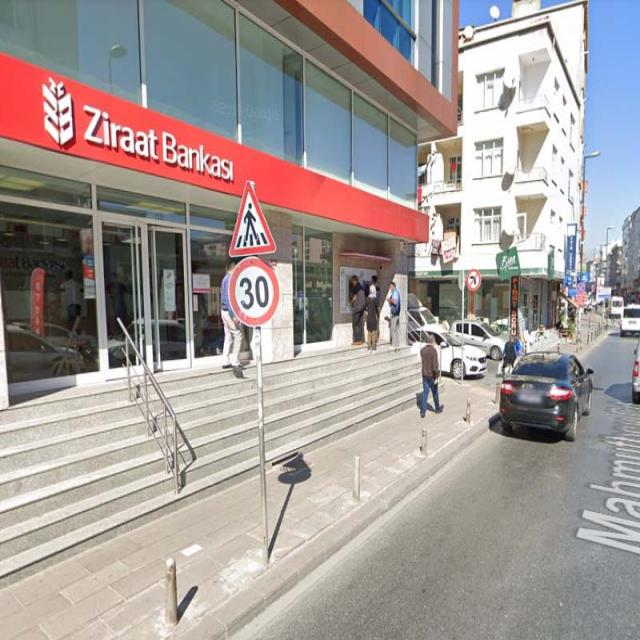30: (228, 258, 279, 328)
soladonulmez: (466, 269, 480, 292)
